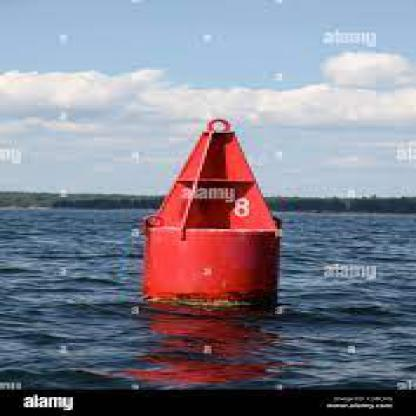buoy: (132, 113, 303, 321)
